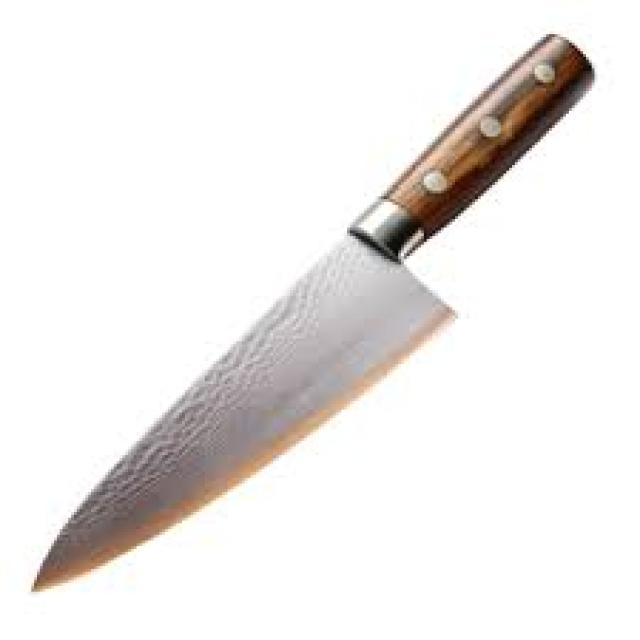Knife: (28, 29, 594, 592)
